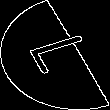L_NE: (15, 30, 95, 80)
